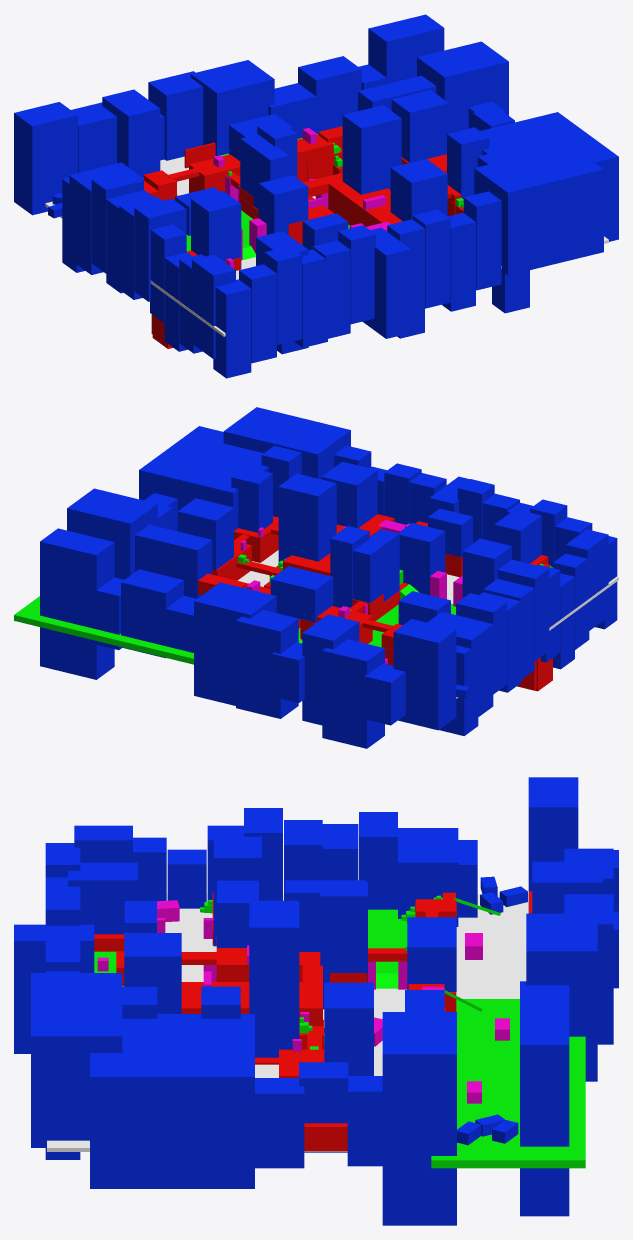
Rendered from Graybox.fbx.
3 views of the same model, one above another, from view 1: azimuth 30°, elevation 25°; view 2: azimuth 150°, elevation 25°; view 3: azimuth 270°, elevation 25° (orthographic). The views are drawn at different scales.
Visible parts, largest first — view 1: Cube__145_, Cube__73_, Cube__114_, Cube__86_, Cube__69_, Cube__191_, Cube__26_, Cube__113_, Cube__71_, Cube__70_, Cube__104_, Cube__63_ (+44 smaller); view 2: Cube__113_, Cube__86_, Cube__73_, Cube__69_, Cube__72_, Cube__70_, Cube__191_, Cube__114_, Cube__144_, Cube__35_, Cube__63_, Cube__71_ (+44 smaller); view 3: Cube__86_, Cube__114_, Cube__136_, Cube__144_, Cube__18_, Cube__113_, Cube__191_, Cube__69_, Cube__145_, Cube__111_, Cube__178_, Cube__57_ (+37 smaller).
Boxes of the visible parts, x1,y1,x2,y2 form: Cube__145_: (474,146,597,275); Cube__73_: (14,102,77,215); Cube__114_: (417,41,508,133); Cube__86_: (480,112,618,241); Cube__69_: (190,60,274,155); Cube__191_: (342,105,401,194); Cube__26_: (363,227,410,338); Cube__113_: (368,14,444,83); Cube__71_: (102,89,160,177); Cube__70_: (148,71,203,160); Cube__104_: (213,279,251,378); Cube__63_: (298,56,361,133); Cube__113_: (40,528,114,679); Cube__86_: (139,426,268,530); Cube__73_: (393,619,456,730); Cube__69_: (194,582,276,705); Cube__72_: (322,639,384,748); Cube__70_: (236,610,298,718); Cube__191_: (278,473,336,561); Cube__114_: (67,488,157,579); Cube__144_: (223,407,344,476); Cube__35_: (135,524,212,598); Cube__63_: (121,569,183,658); Cube__71_: (302,614,359,725); Cube__86_: (90,1014,254,1188); Cube__114_: (382,1012,456,1225); Cube__136_: (431,999,585,1168); Cube__144_: (31,977,122,1147); Cube__18_: (47,894,528,1151); Cube__113_: (520,1007,569,1216); Cube__191_: (249,900,299,1057); Cube__69_: (526,913,597,1081); Cube__145_: (31,973,122,1032); Cube__111_: (398,828,458,926); Cube__178_: (320,881,367,1009); Cube__57_: (255,1078,304,1168).
Size of the model in its own units: 15141 by 5402 by 13687.
